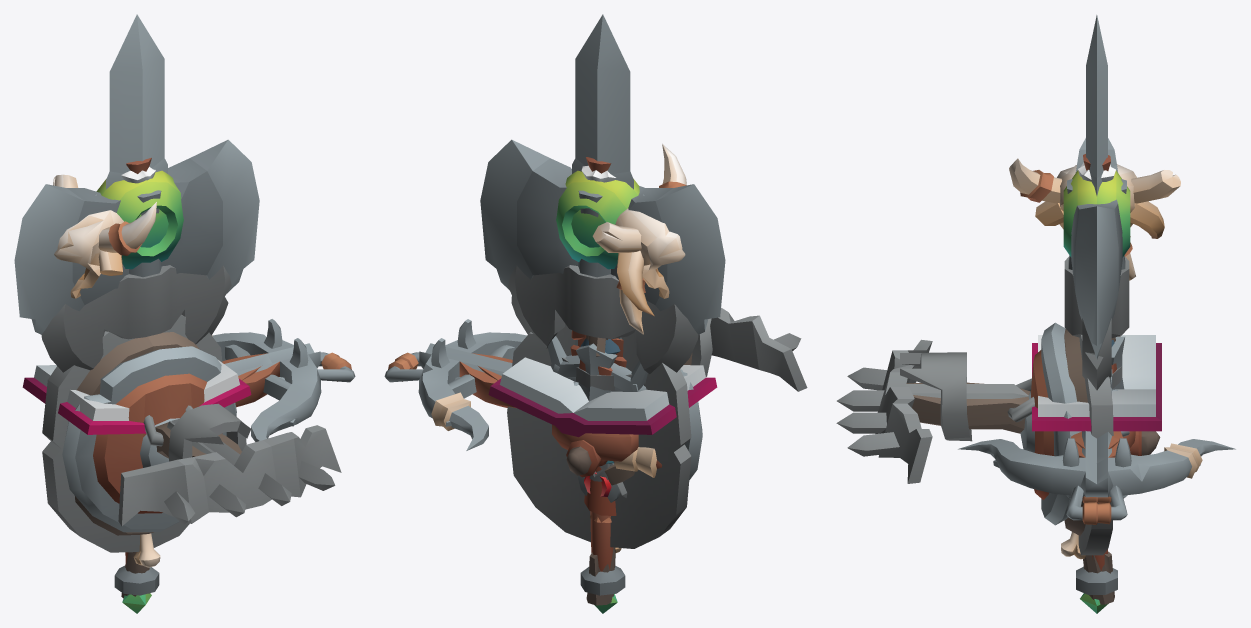
Rendered from props.glb.
3 views of the same model, side by side, from view 1: azimuth 30°, elevation 25°; view 2: azimuth 150°, elevation 25°; view 3: azimuth 270°, elevation 25° (orthographic).
Visible parts, largest first — view 1: 2H_Axe, Skeleton_Crossbow, Round_Shield, Skeleton_Axe, Skeleton_Shield_Large_A, 2H_Sword, 2H_Crossbow, Skeleton_Staff, 2H_Staff, Spellbook_open, 1H_Crossbow; view 2: 2H_Axe, Skeleton_Shield_Large_A, Skeleton_Axe, 2H_Sword, Spellbook_open, 2H_Crossbow, Skeleton_Staff, 2H_Staff, Skeleton_Crossbow, 1H_Crossbow, Skeleton_Blade, Round_Shield; view 3: Skeleton_Crossbow, 2H_Crossbow, 2H_Axe, Spellbook_open, Skeleton_Staff, Round_Shield, 2H_Staff, Skeleton_Shield_Large_A, 2H_Sword, Skeleton_Axe, 1H_Crossbow.
Boxes of the visible parts, x1,y1,x2,y2 form: 2H_Axe: [14, 139, 259, 334]; Skeleton_Crossbow: [118, 403, 341, 526]; Round_Shield: [62, 346, 236, 532]; Skeleton_Axe: [41, 265, 231, 372]; Skeleton_Shield_Large_A: [42, 314, 222, 552]; 2H_Sword: [109, 14, 164, 173]; 2H_Crossbow: [212, 319, 355, 441]; Skeleton_Staff: [53, 174, 160, 598]; 2H_Staff: [95, 170, 183, 613]; Spellbook_open: [22, 360, 251, 434]; 1H_Crossbow: [223, 344, 296, 426]; 2H_Axe: [480, 139, 725, 515]; Skeleton_Shield_Large_A: [507, 323, 691, 548]; Skeleton_Axe: [508, 265, 698, 481]; 2H_Sword: [547, 14, 647, 502]; Spellbook_open: [488, 357, 717, 437]; 2H_Crossbow: [384, 319, 661, 477]; Skeleton_Staff: [586, 144, 686, 605]; 2H_Staff: [556, 170, 644, 613]; Skeleton_Crossbow: [566, 307, 807, 477]; 1H_Crossbow: [445, 345, 661, 477]; Skeleton_Blade: [562, 330, 645, 497]; Round_Shield: [680, 369, 702, 479]; Skeleton_Crossbow: [836, 339, 1160, 483]; 2H_Crossbow: [958, 389, 1235, 524]; 2H_Axe: [1067, 138, 1126, 359]; Spellbook_open: [1032, 335, 1161, 431]; Skeleton_Staff: [1009, 158, 1180, 604]; Round_Shield: [1020, 322, 1081, 525]; 2H_Staff: [1063, 170, 1130, 613]; Skeleton_Shield_Large_A: [1064, 329, 1135, 555]; 2H_Sword: [1086, 15, 1124, 390]; Skeleton_Axe: [1064, 256, 1129, 390]; 1H_Crossbow: [993, 390, 1200, 503].
Size of the model in its own units: 1.68 by 2.9 by 1.75.
5 materials, 5 textured.
